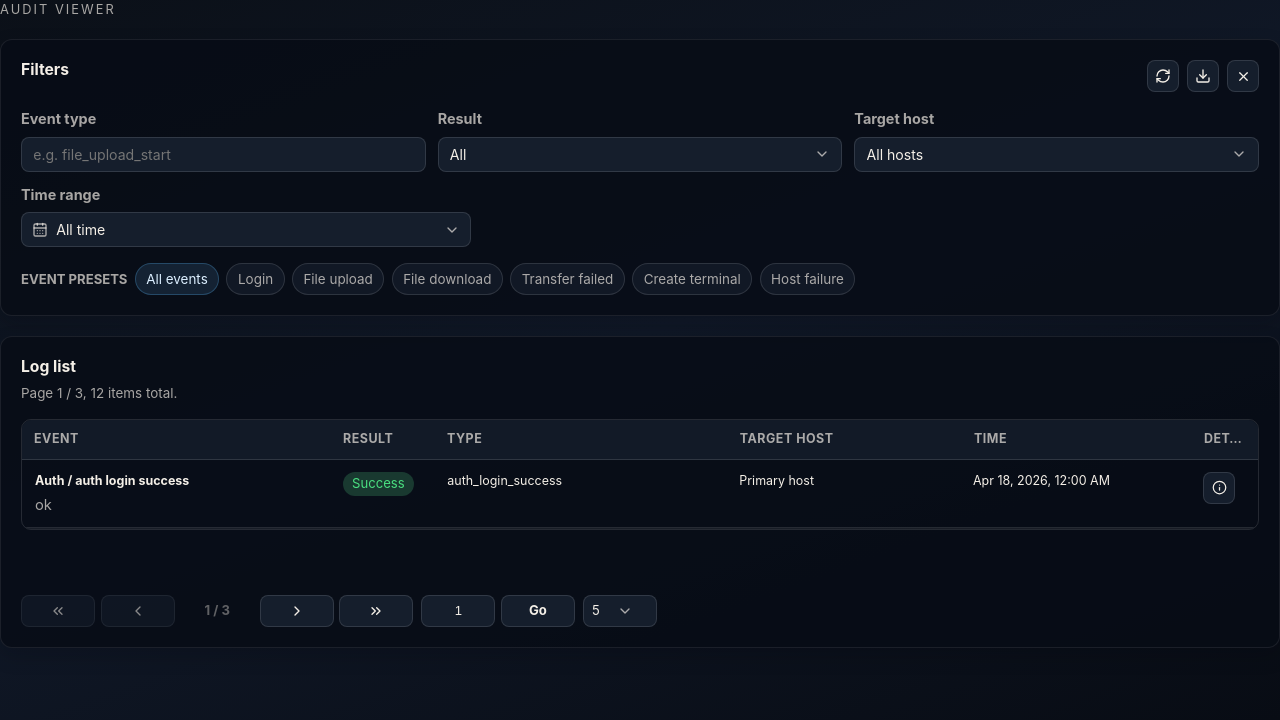
Test case: AuditPage › exposes the audit export task loading state as a status
Click the button named "Export CSV": {"x": 1203, "y": 76} x1=1187 y1=60 x2=1219 y2=92
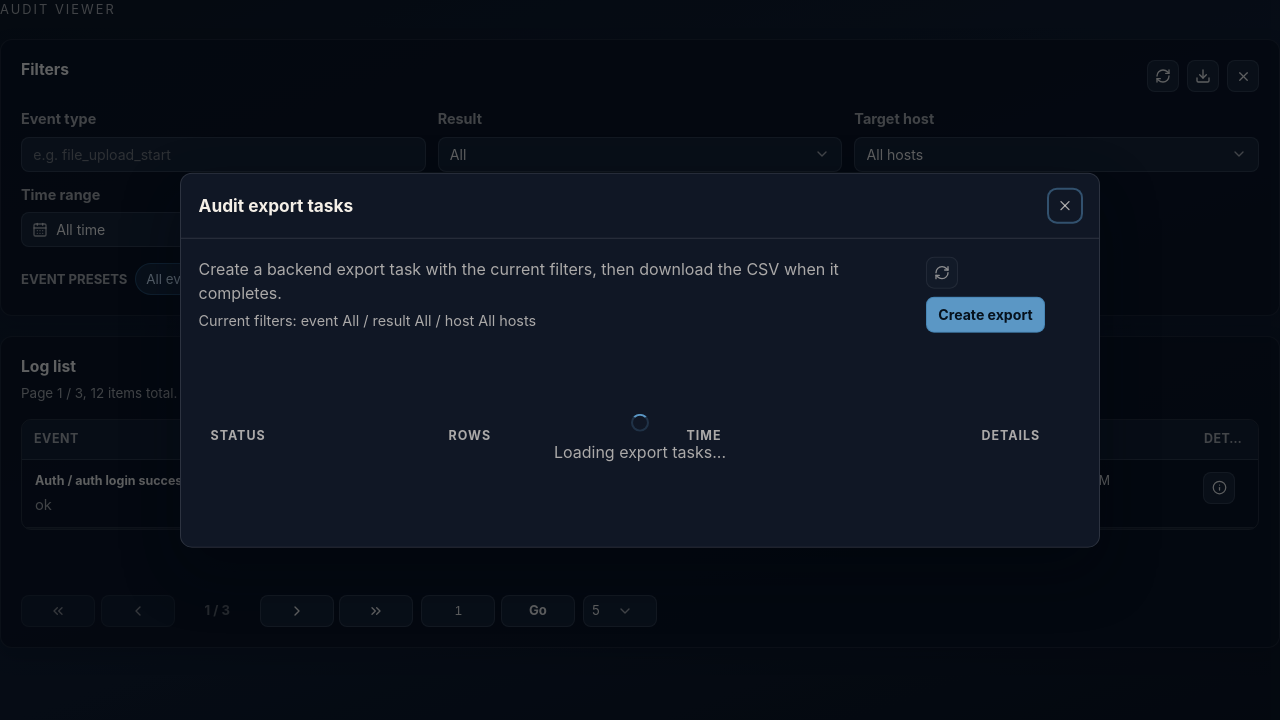
Expected: the message "Loading export tasks..." is shown, x1=554 y1=414 x2=726 y2=462
